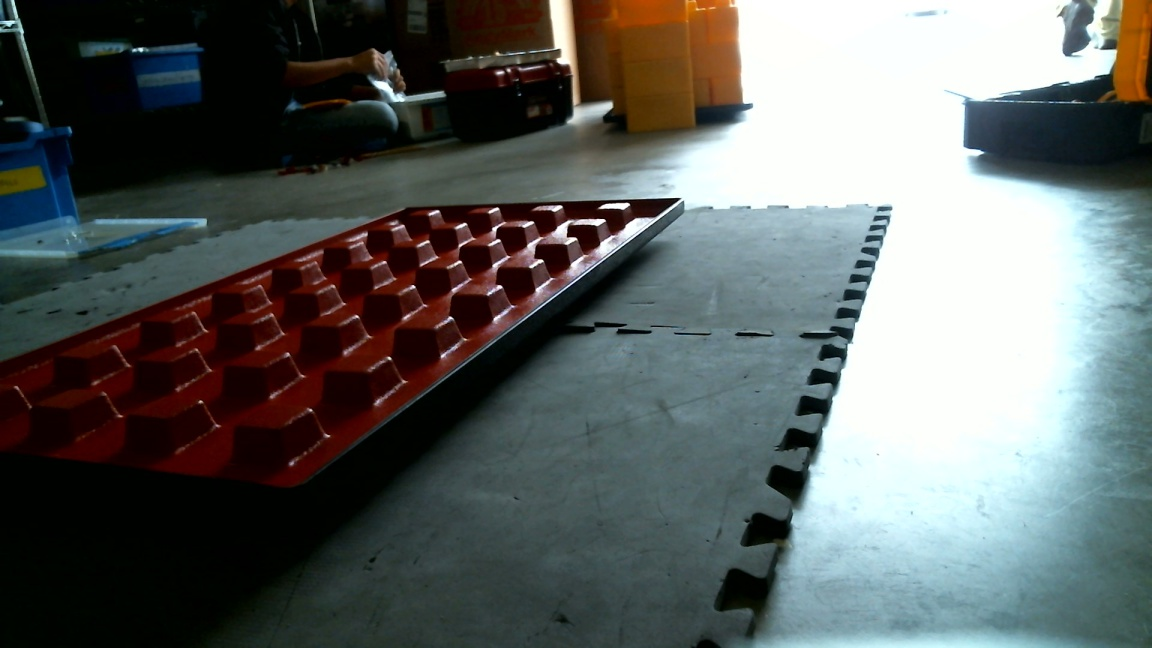red_foundation: (1, 199, 684, 513)
